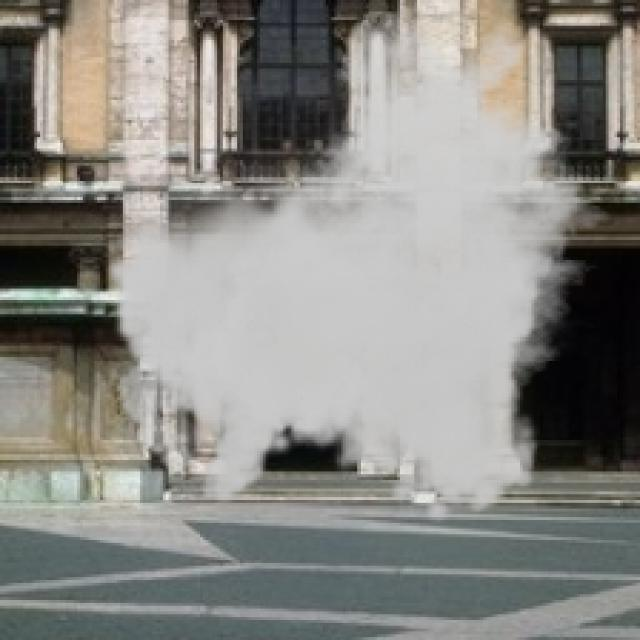smoke: (103, 8, 628, 526)
